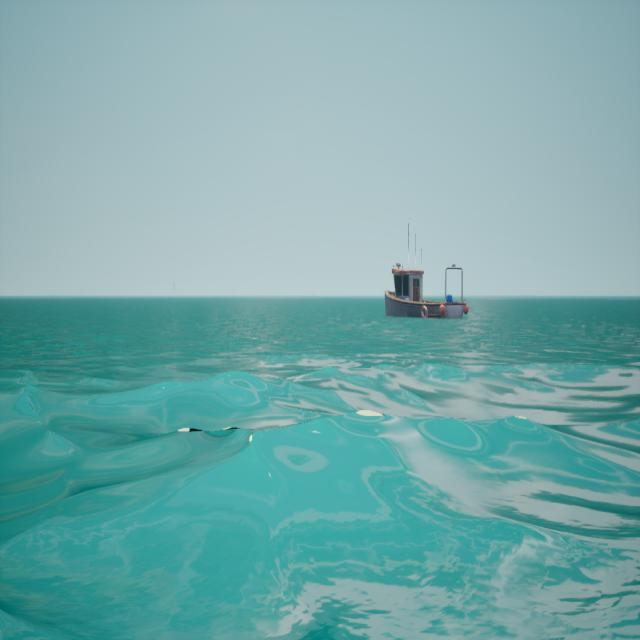ship: (376, 206, 477, 340)
